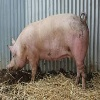heo: (4, 34, 39, 74)
